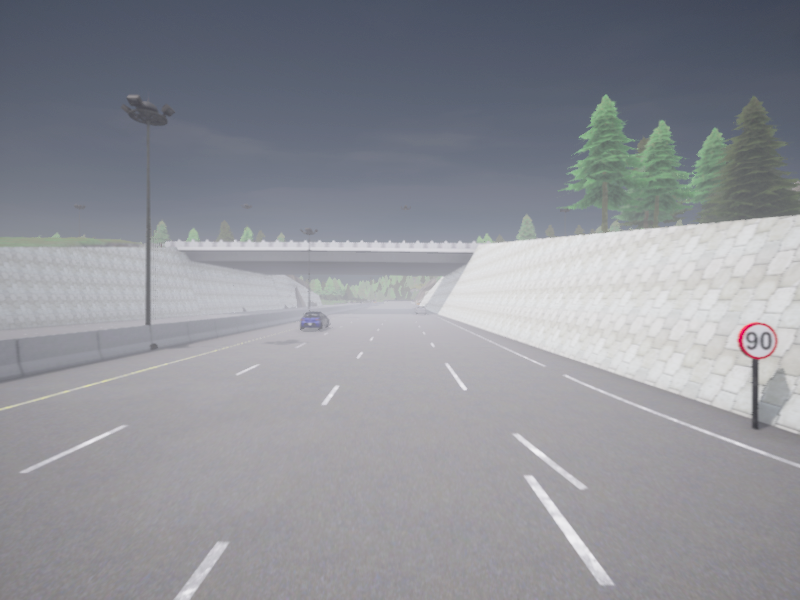vehicle: (300, 311, 329, 329), (414, 305, 425, 313)
